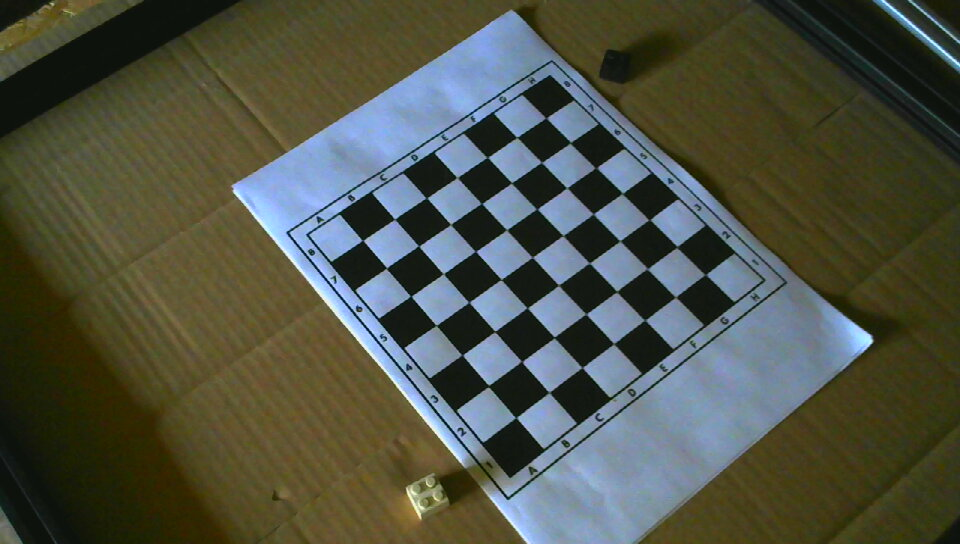bp: (599, 47, 633, 83)
wp: (406, 474, 450, 520)
